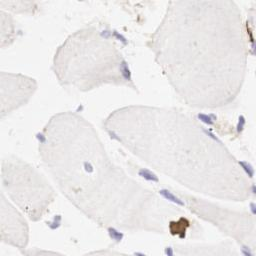nucleus: (159, 188, 184, 205), (106, 226, 125, 243), (199, 128, 221, 142), (139, 168, 158, 181), (198, 112, 216, 125), (240, 160, 253, 177), (120, 61, 132, 79), (49, 216, 62, 229), (113, 32, 128, 43), (237, 116, 246, 134), (239, 246, 253, 256), (83, 162, 94, 172), (107, 130, 118, 140), (35, 132, 45, 142), (165, 248, 172, 256), (251, 42, 256, 53), (251, 203, 256, 214), (101, 31, 110, 36), (77, 105, 83, 112), (253, 185, 256, 194), (135, 253, 144, 256)
positive_cell: (244, 20, 256, 53)
